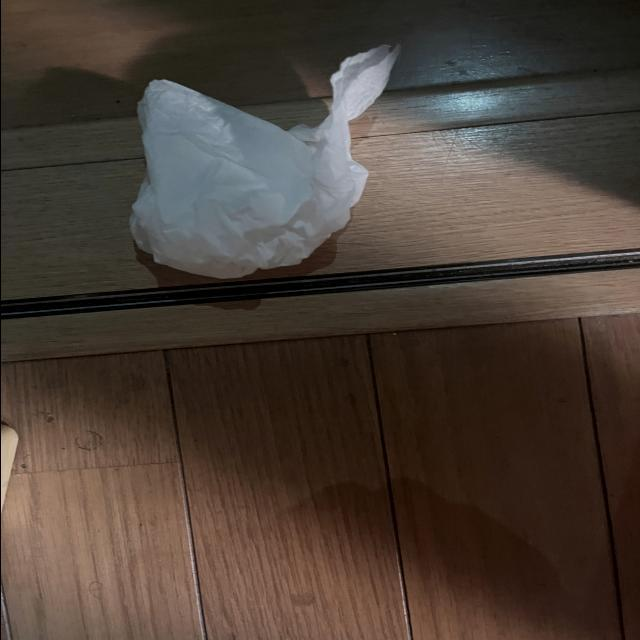Paper: (120, 39, 402, 299)
